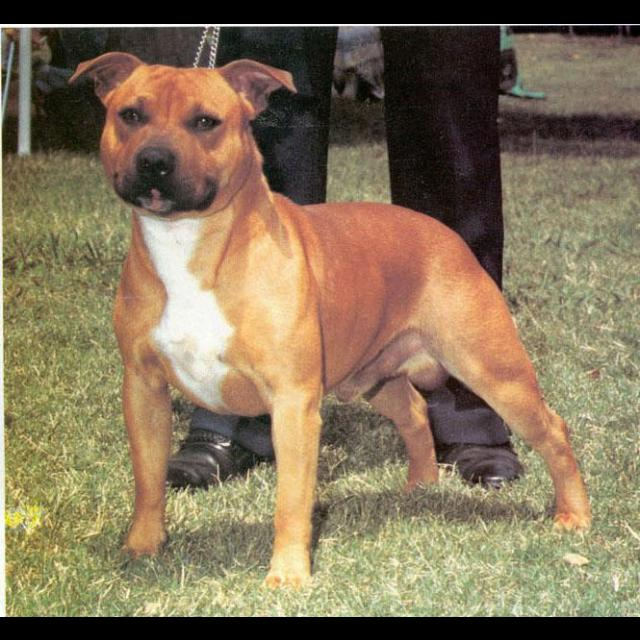staffford: (68, 49, 593, 591)
